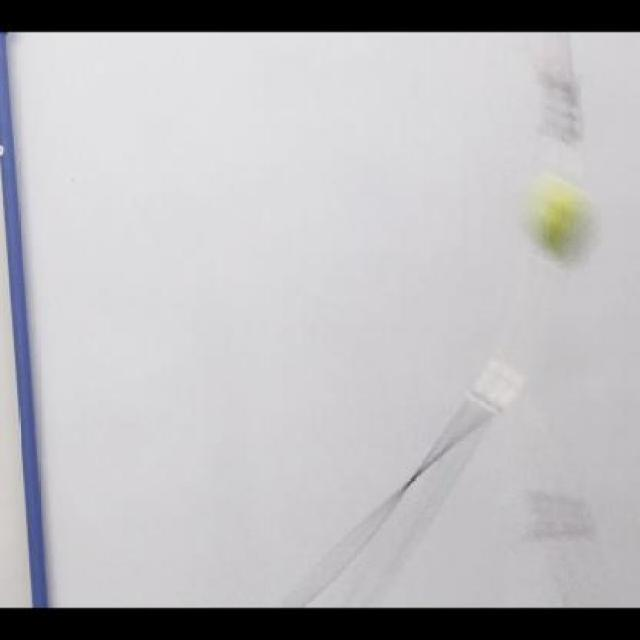baseball: (518, 167, 597, 265)
